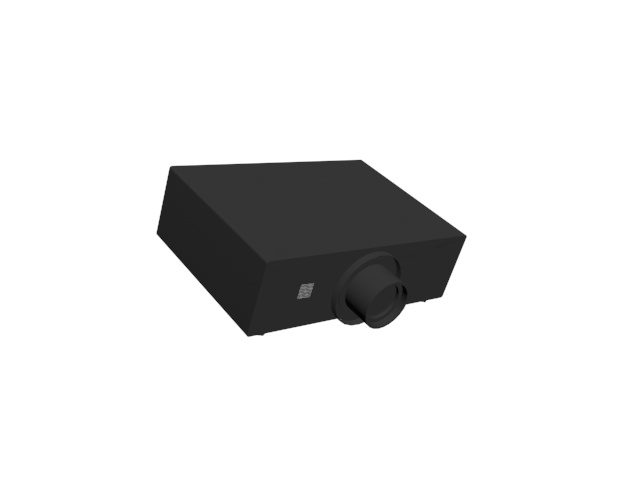projector: (153, 153, 472, 344)
